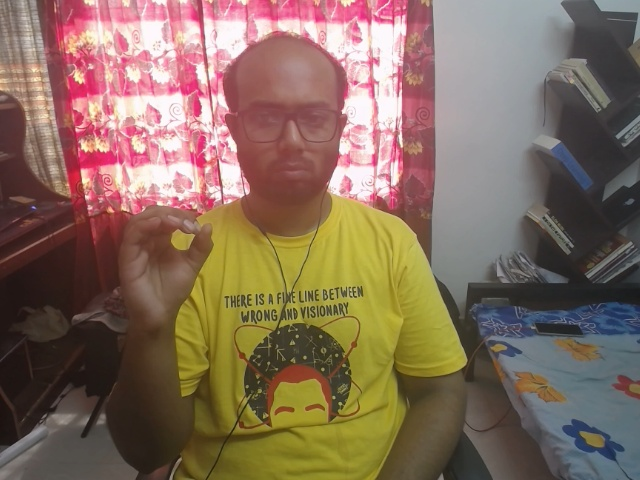zero: (76, 176, 254, 348)
